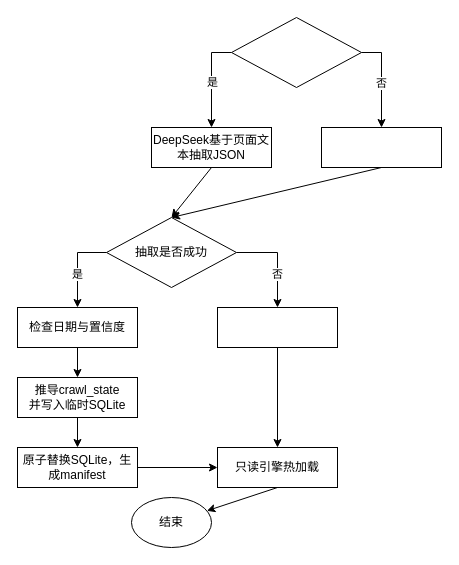
This 459x565 diagram has some shape labels left out. Each missing label, with the centre of its shape:
"ccfddl是否匹配" belongs at pixel 296 52.
"DeepSeek基于有限上下文判断" belongs at pixel 381 147.
"仅检查更新时间与下次排期" belongs at pixel 277 327.
